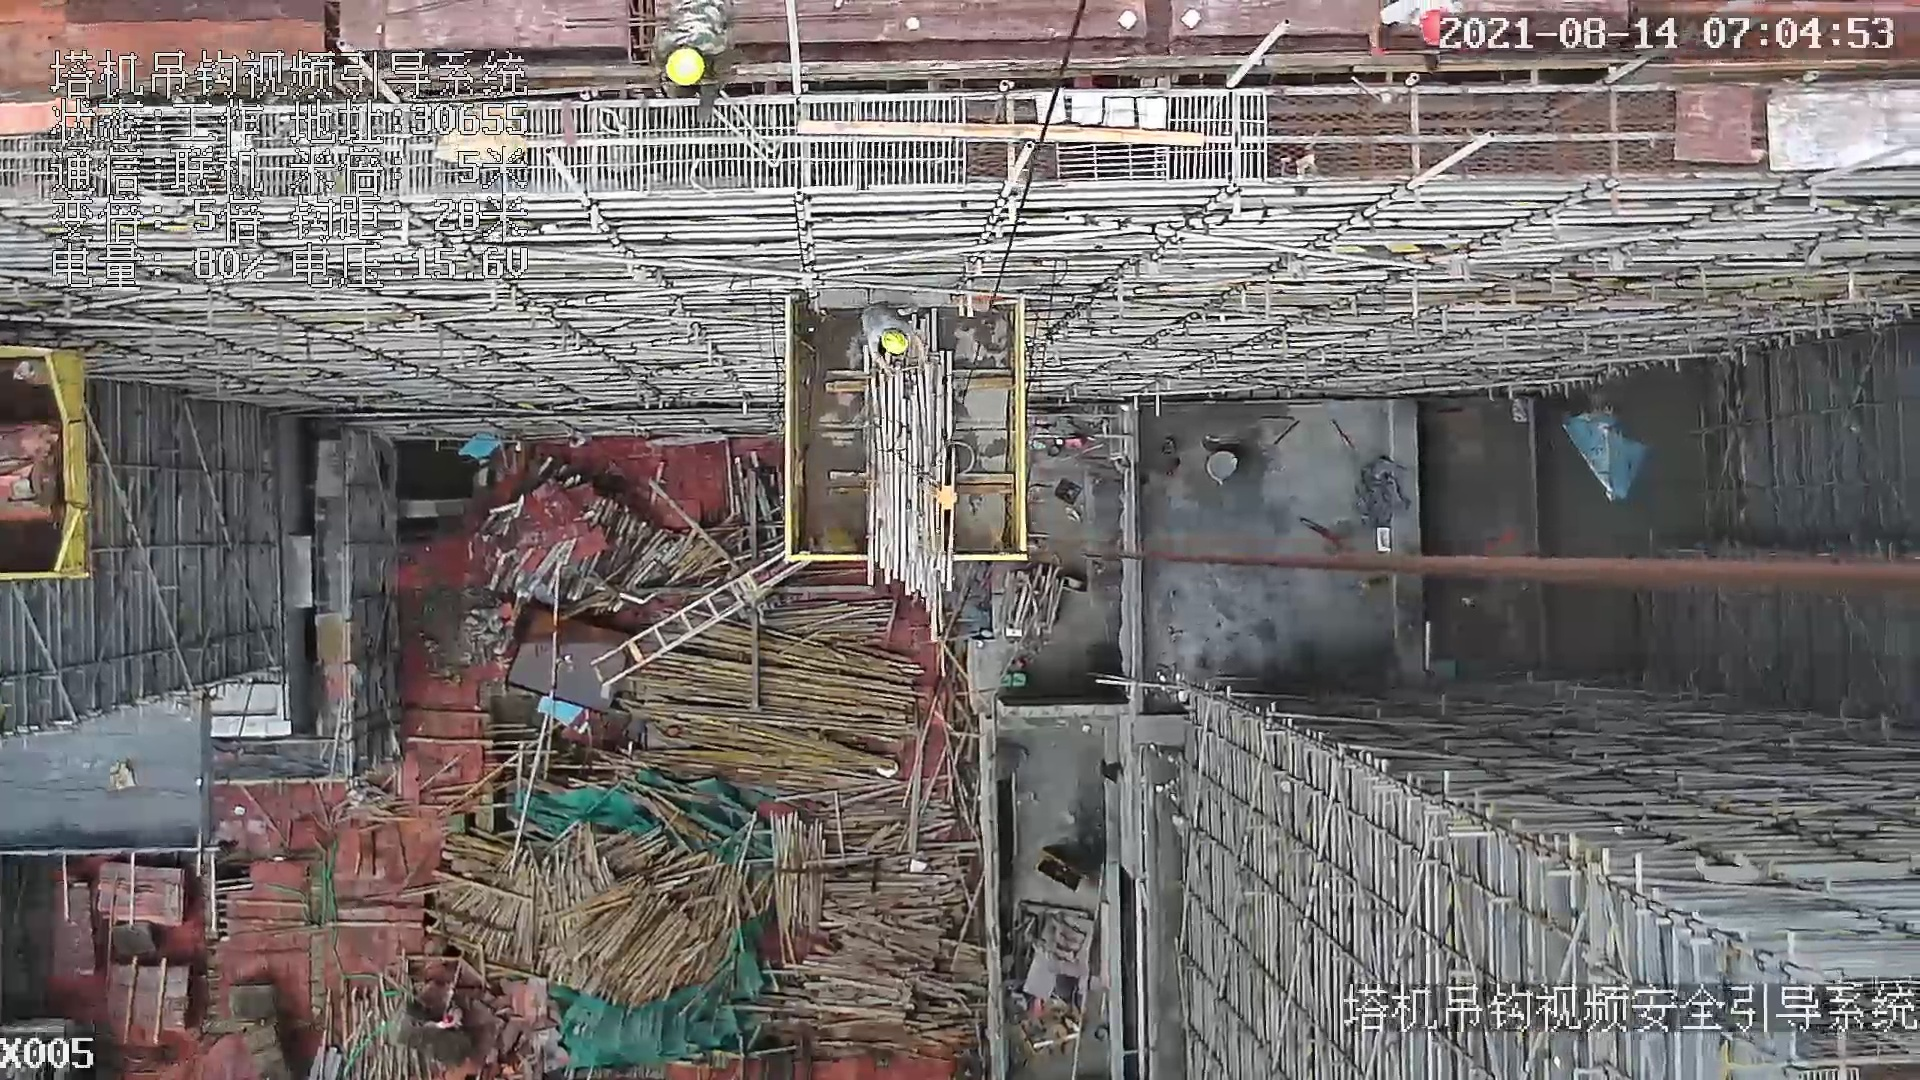helmet: (666, 42, 705, 93), (1419, 9, 1454, 51), (877, 326, 912, 356)
hook: (928, 455, 967, 569)
person: (647, 1, 720, 128), (1369, 1, 1472, 70), (858, 305, 931, 380)
